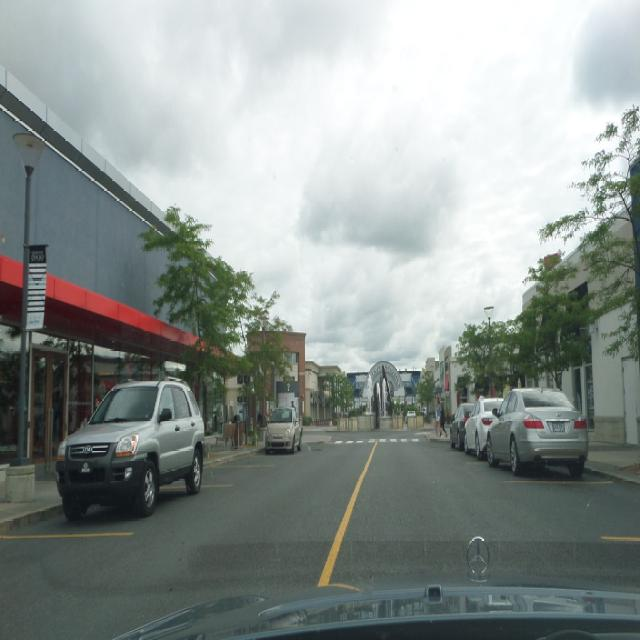car: (54, 373, 205, 519), (486, 385, 587, 477), (264, 406, 301, 454)
